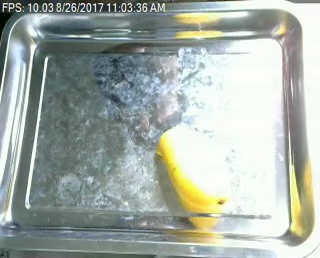Mango: (155, 127, 236, 212)
